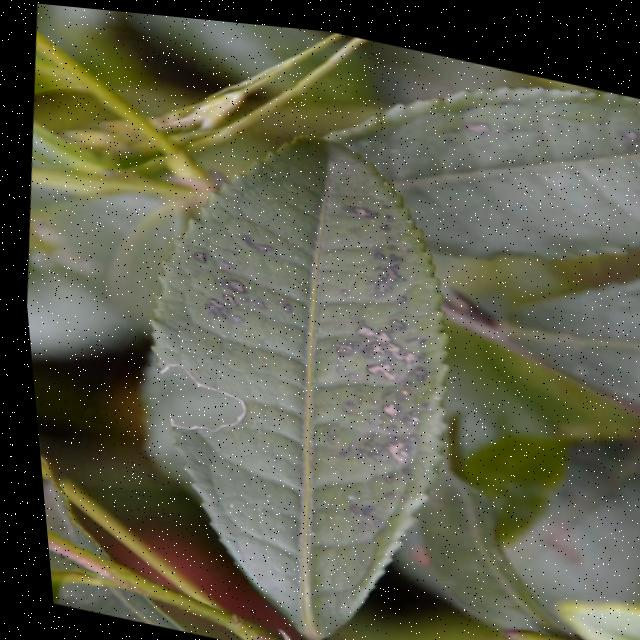Tea algae leaf spot: (116, 119, 470, 584)
